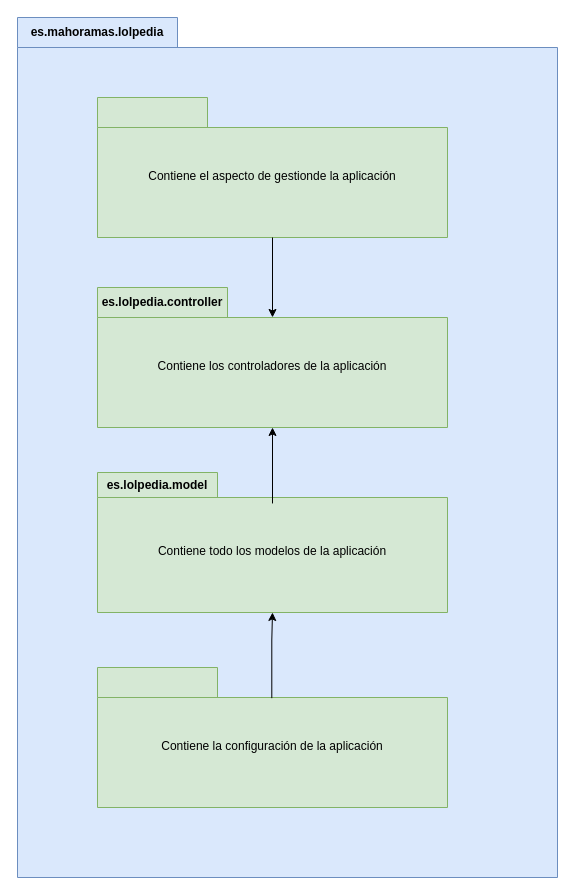
Image size: 575x895. Some labels were removed from this diagram. Each missing label, with the centre of its shape:
"es.lolpedia.config" goes at pixel 272 737.
"es.lolpedia.view" goes at pixel 272 167.
